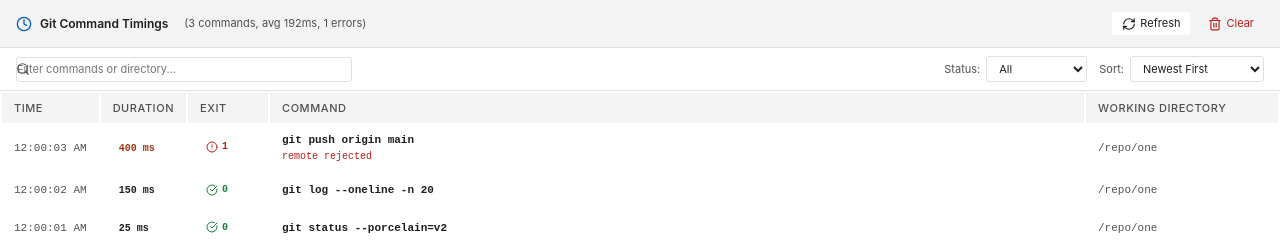
Test: GitTimingsView › filters records by search query
Type "push" into the field with test id "filter-input" at {"x": 184, "y": 69}, box [16,56,352,82]
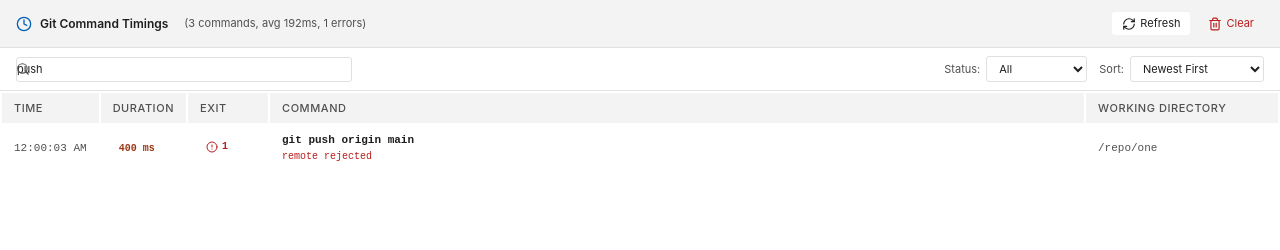
Expected: the text "git push origin main" is shown, [282,134,414,146]
Now the text "git status --porcelain=v2" is gone
